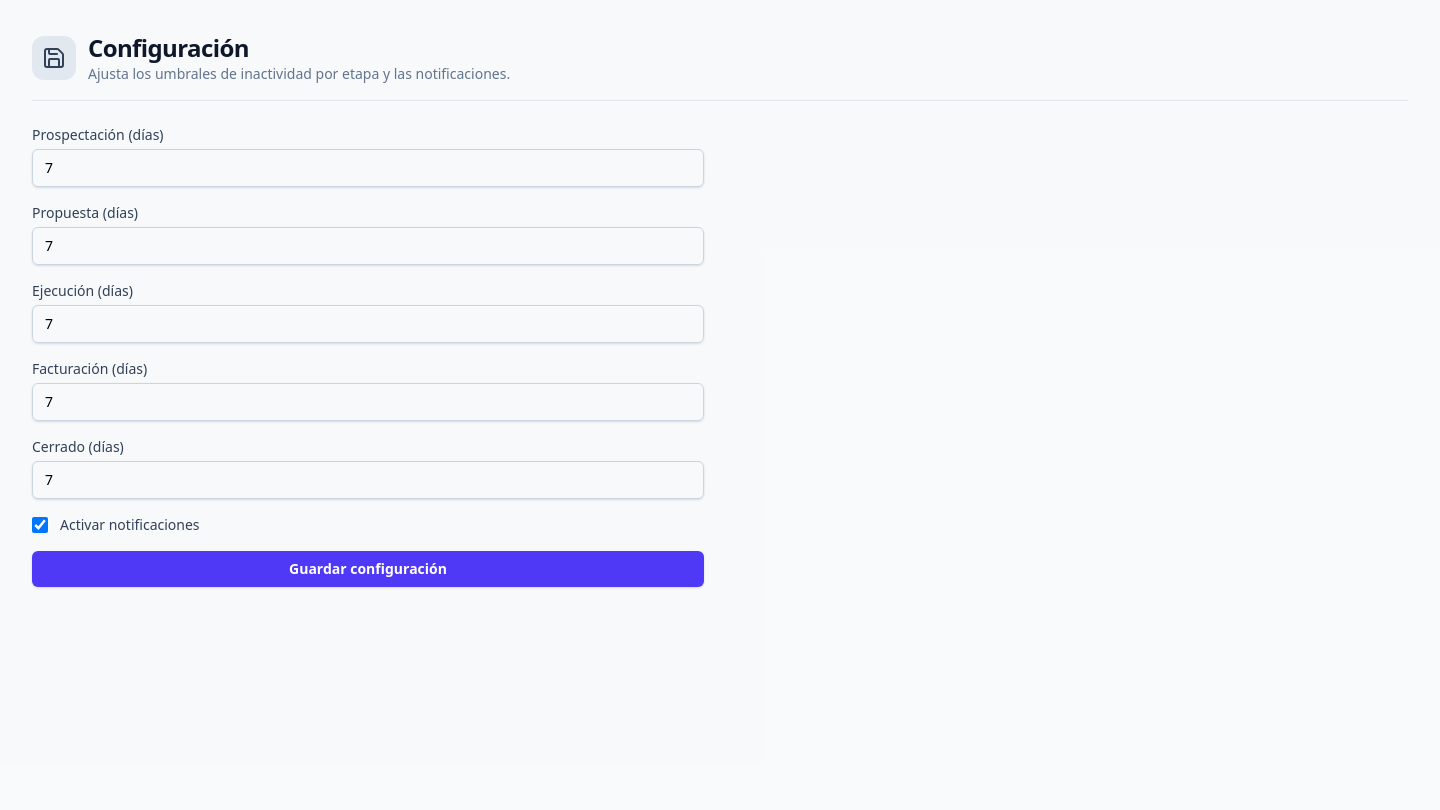
Scenario: Página /settings (GET/PUT /api/settings) › muestra error de validación cuando la API responde 400
The width and height of the screenshot is (1440, 810).
// 14 es válido localmente (1-365) pero la API responderá 400
Replace the text in the number field labelled "Prospectación (días)" with "14" at (368, 168), box x1=32 y1=149 x2=704 y2=187
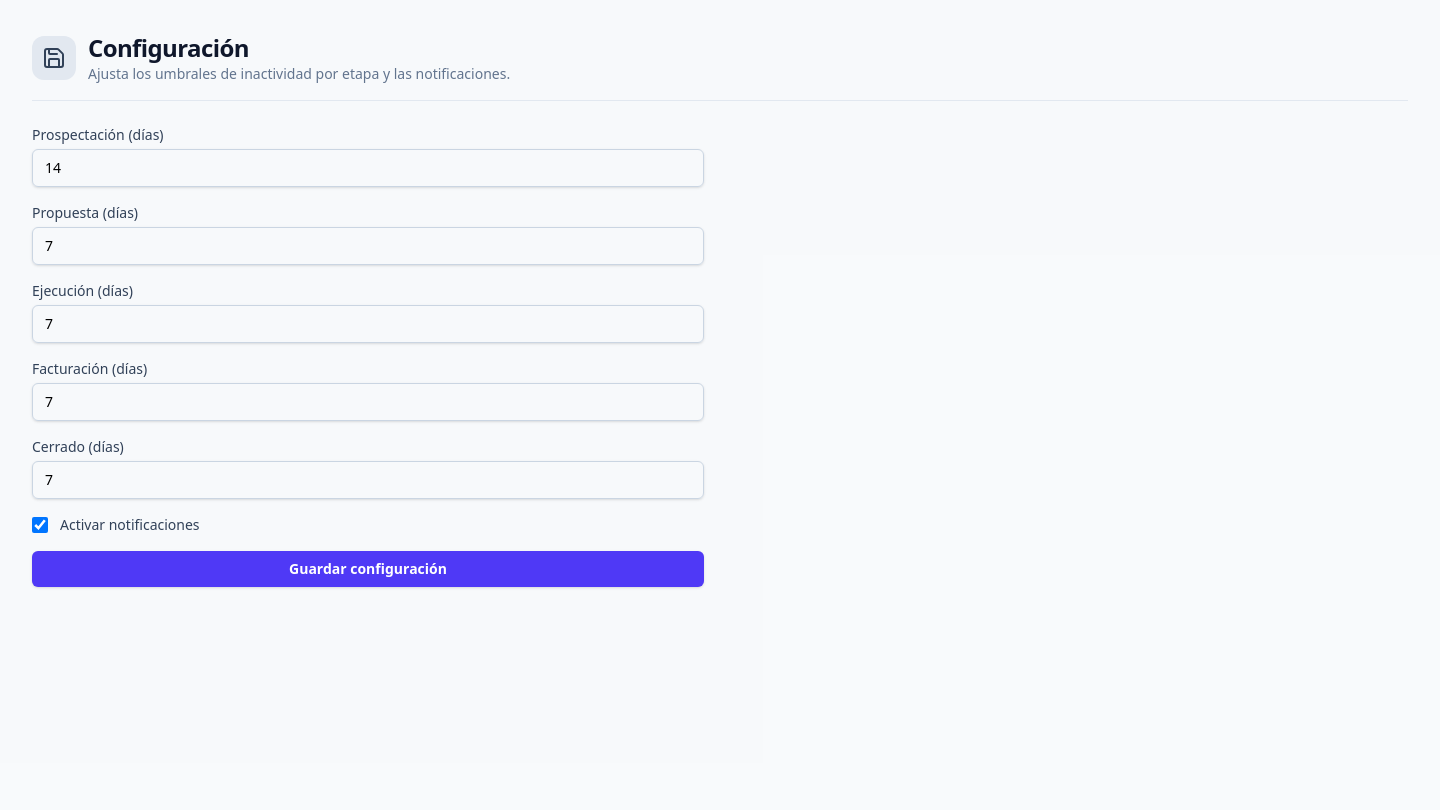
Click the button "Guardar configuración".
click(368, 569)  # box x1=32 y1=551 x2=704 y2=587
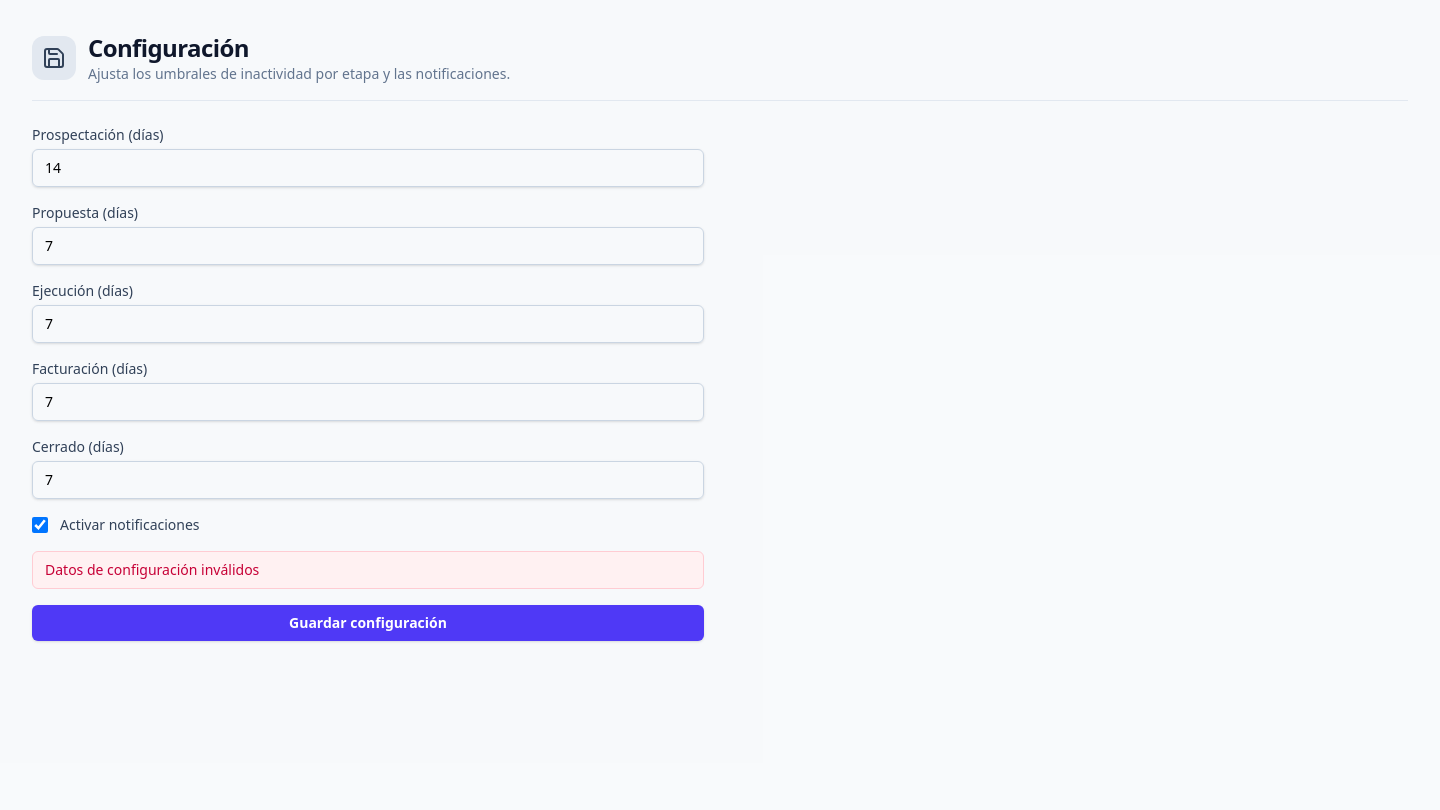
Expected: the text "Datos de configuración inválidos" is shown, x1=32 y1=551 x2=704 y2=589
